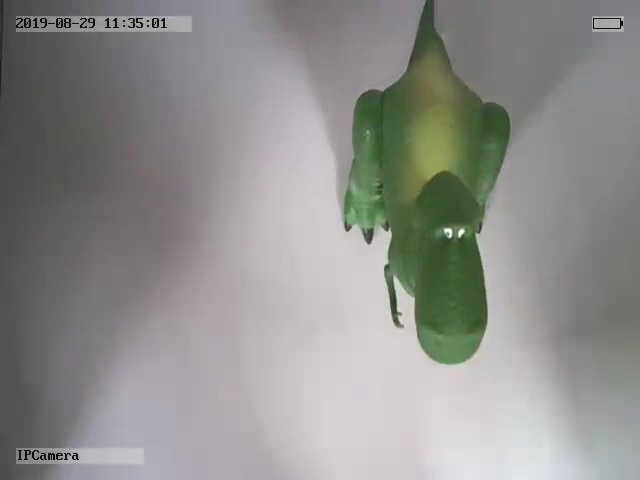rex: (342, 2, 512, 365)
